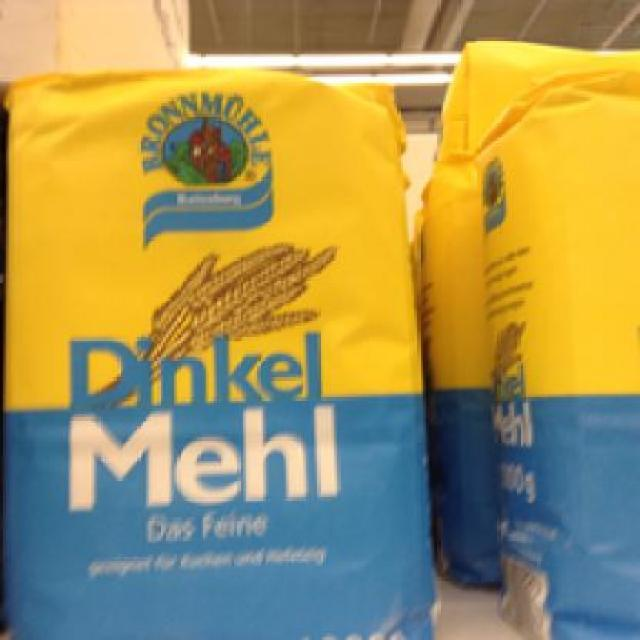Flour: (6, 66, 434, 634)
